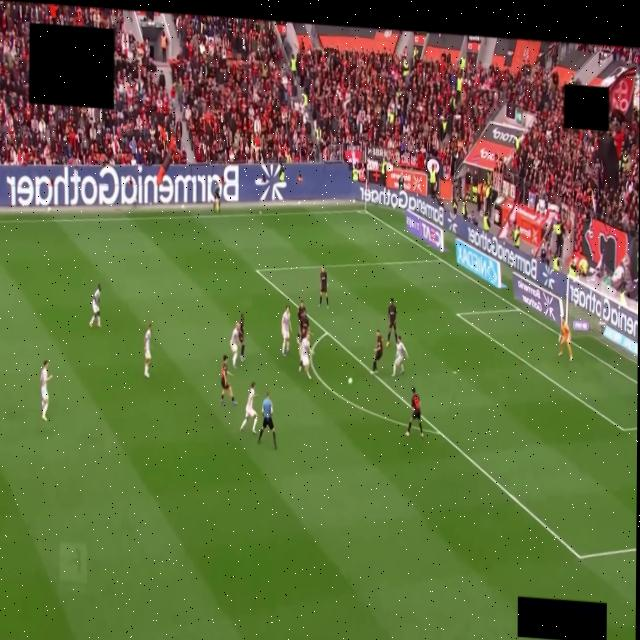ball: (347, 378, 351, 384)
player: (405, 388, 423, 438), (240, 382, 257, 434), (220, 355, 235, 405), (40, 361, 51, 420), (298, 334, 312, 379), (392, 336, 407, 377), (558, 318, 572, 361), (371, 330, 383, 374), (281, 306, 291, 356), (387, 299, 397, 347), (89, 284, 100, 327), (143, 323, 151, 378), (230, 323, 239, 369), (297, 301, 306, 342), (319, 267, 328, 307), (298, 310, 308, 343), (238, 314, 244, 361)
referee: (258, 393, 276, 449)
